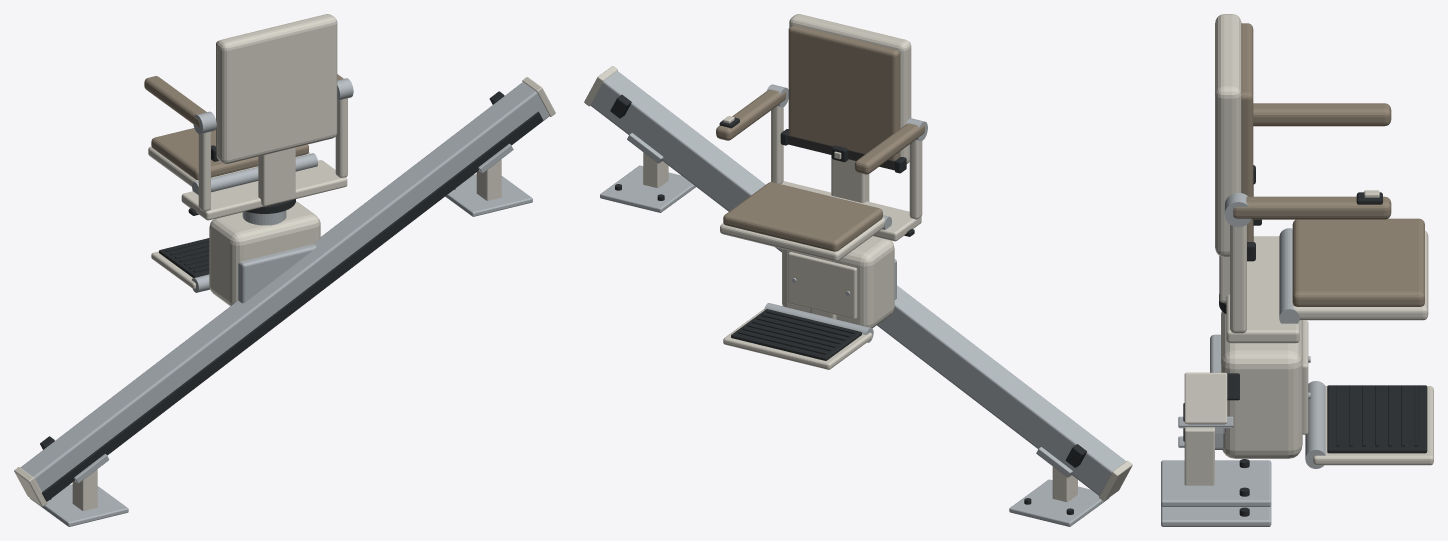
3 renders of one model, left to right at view 1: azimuth 30°, elevation 25°; view 2: azimuth 150°, elevation 25°; view 3: azimuth 270°, elevation 25°, orthographic. The views are drawn at different scales.
Parts seen in each view (by area): view 1: Inclined main rail, Back shell, Lower guide channel, Carriage housing, Chair seat chassis, Fold seat cushion, Carriage rear yoke, Back support spine, Stair mount foot 0, Stair mount foot 1, Arm pad -1, Seat hinge (+5 smaller); view 2: Inclined main rail, Back cushion, Fold seat cushion, Carriage housing, Carriage front service cover, Footrest tread, Back shell, Stair mount foot 1, Stair mount foot 0, Fold seat shell, Fold footrest plate, Arm pad -1 (+8 smaller); view 3: Fold seat cushion, Carriage housing, Footrest tread, Back shell, Stair mount foot 1, Chair seat chassis, Arm pad 1, Arm pad -1, Back cushion, Rail end cap 1, Fold seat shell, Fold footrest plate (+10 smaller).
Boxes of the visible parts, bbox=[...] form: Inclined main rail: bbox=[20, 82, 549, 501]; Back shell: bbox=[216, 14, 337, 164]; Lower guide channel: bbox=[42, 111, 543, 501]; Carriage housing: bbox=[209, 201, 320, 306]; Chair seat chassis: bbox=[181, 160, 347, 220]; Fold seat cushion: bbox=[151, 128, 308, 180]; Carriage rear yoke: bbox=[238, 244, 316, 303]; Back support spine: bbox=[258, 147, 295, 206]; Stair mount foot 0: bbox=[30, 484, 128, 526]; Stair mount foot 1: bbox=[445, 174, 532, 216]; Arm pad -1: bbox=[144, 76, 206, 127]; Seat hinge: bbox=[192, 153, 317, 194]; Inclined main rail: bbox=[590, 71, 1126, 495]; Back cushion: bbox=[788, 25, 899, 160]; Fold seat cushion: bbox=[723, 182, 882, 251]; Carriage housing: bbox=[782, 236, 894, 328]; Carriage front service cover: bbox=[788, 252, 857, 319]; Footrest tread: bbox=[731, 309, 861, 360]; Back shell: bbox=[789, 14, 911, 163]; Stair mount foot 1: bbox=[600, 165, 695, 212]; Stair mount foot 0: bbox=[1009, 479, 1108, 526]; Fold seat shell: bbox=[720, 217, 884, 261]; Fold footrest plate: bbox=[723, 309, 872, 369]; Arm pad -1: bbox=[854, 123, 924, 174]; Fold seat cushion: bbox=[1292, 218, 1424, 306]; Carriage housing: bbox=[1221, 311, 1302, 458]; Footrest tread: bbox=[1327, 385, 1427, 453]; Back shell: bbox=[1215, 14, 1241, 256]; Stair mount foot 1: bbox=[1161, 460, 1271, 506]; Chair seat chassis: bbox=[1226, 236, 1299, 343]; Arm pad 1: bbox=[1233, 196, 1391, 219]; Arm pad -1: bbox=[1253, 103, 1391, 126]; Back cushion: bbox=[1241, 23, 1253, 241]; Rail end cap 1: bbox=[1184, 372, 1227, 423]; Fold seat shell: bbox=[1292, 231, 1428, 320]; Fold footrest plate: bbox=[1313, 386, 1433, 465].
Bounding box in the file's own units: 2.09 × 1.61 × 0.669.
